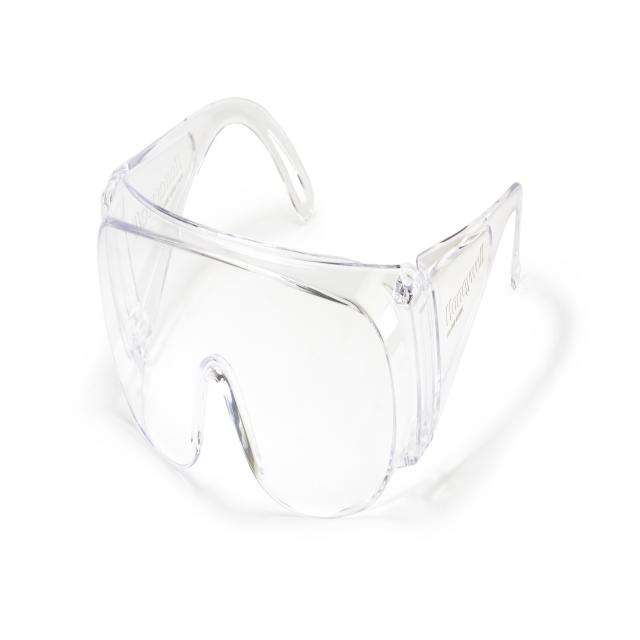Protective Glasses: (85, 90, 537, 526)
